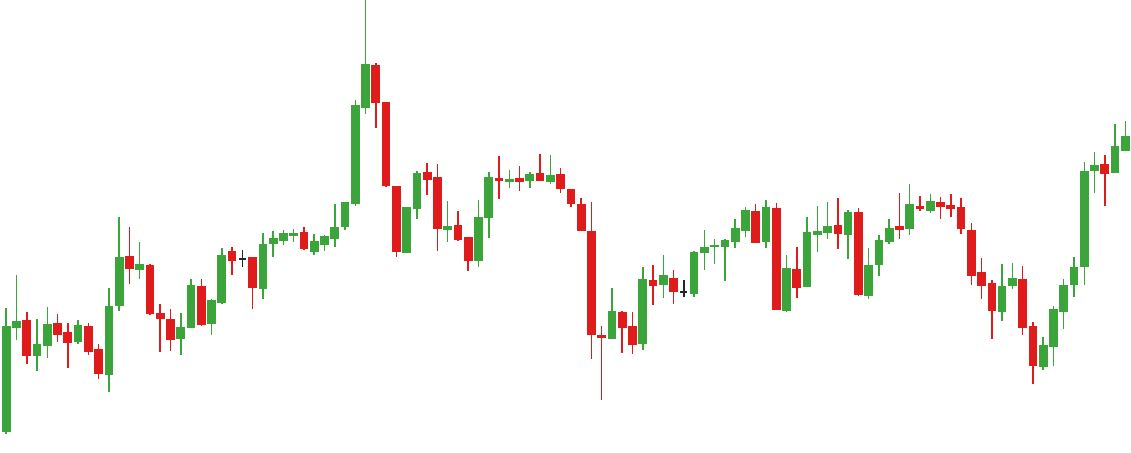buy: (164, 230, 607, 404)
